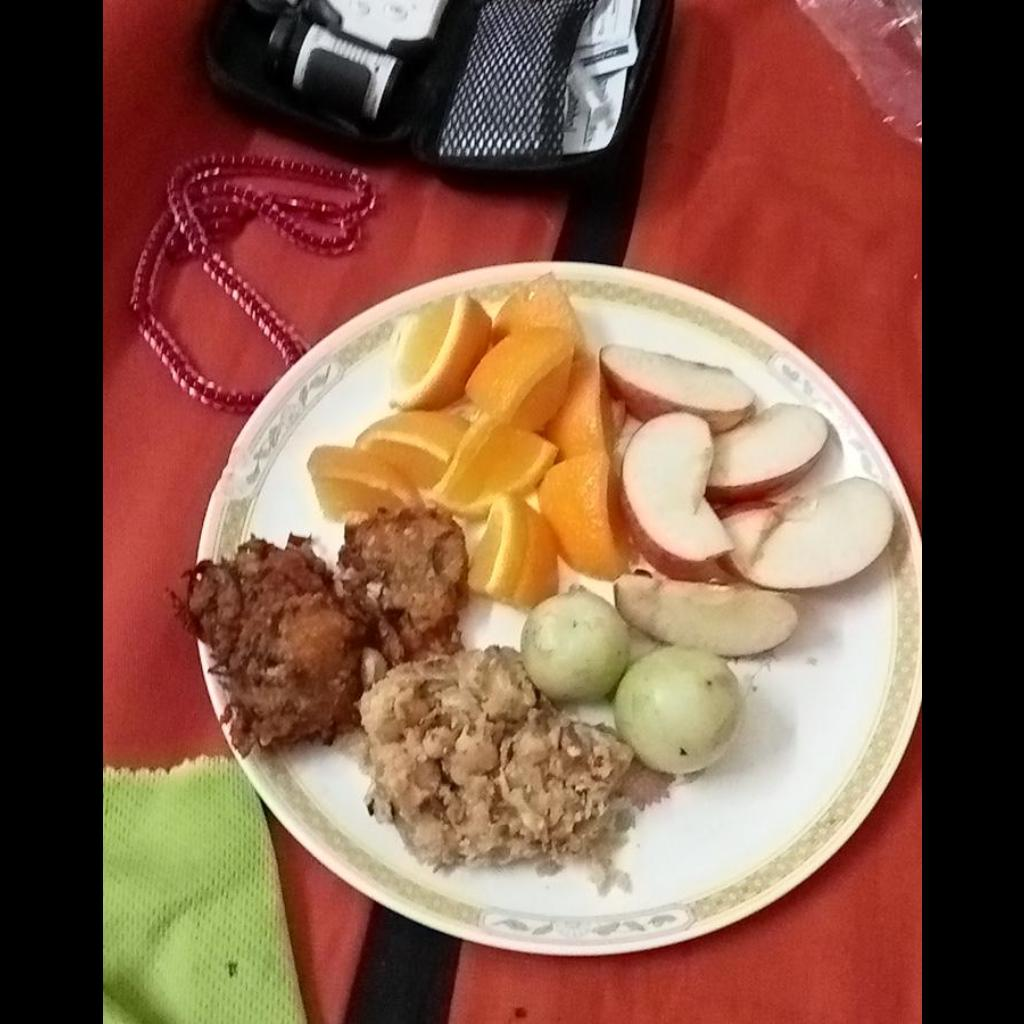apple: (600, 344, 899, 665)
daal: (359, 650, 637, 866)
orange: (310, 279, 625, 600)
peyaju: (177, 516, 462, 753)
